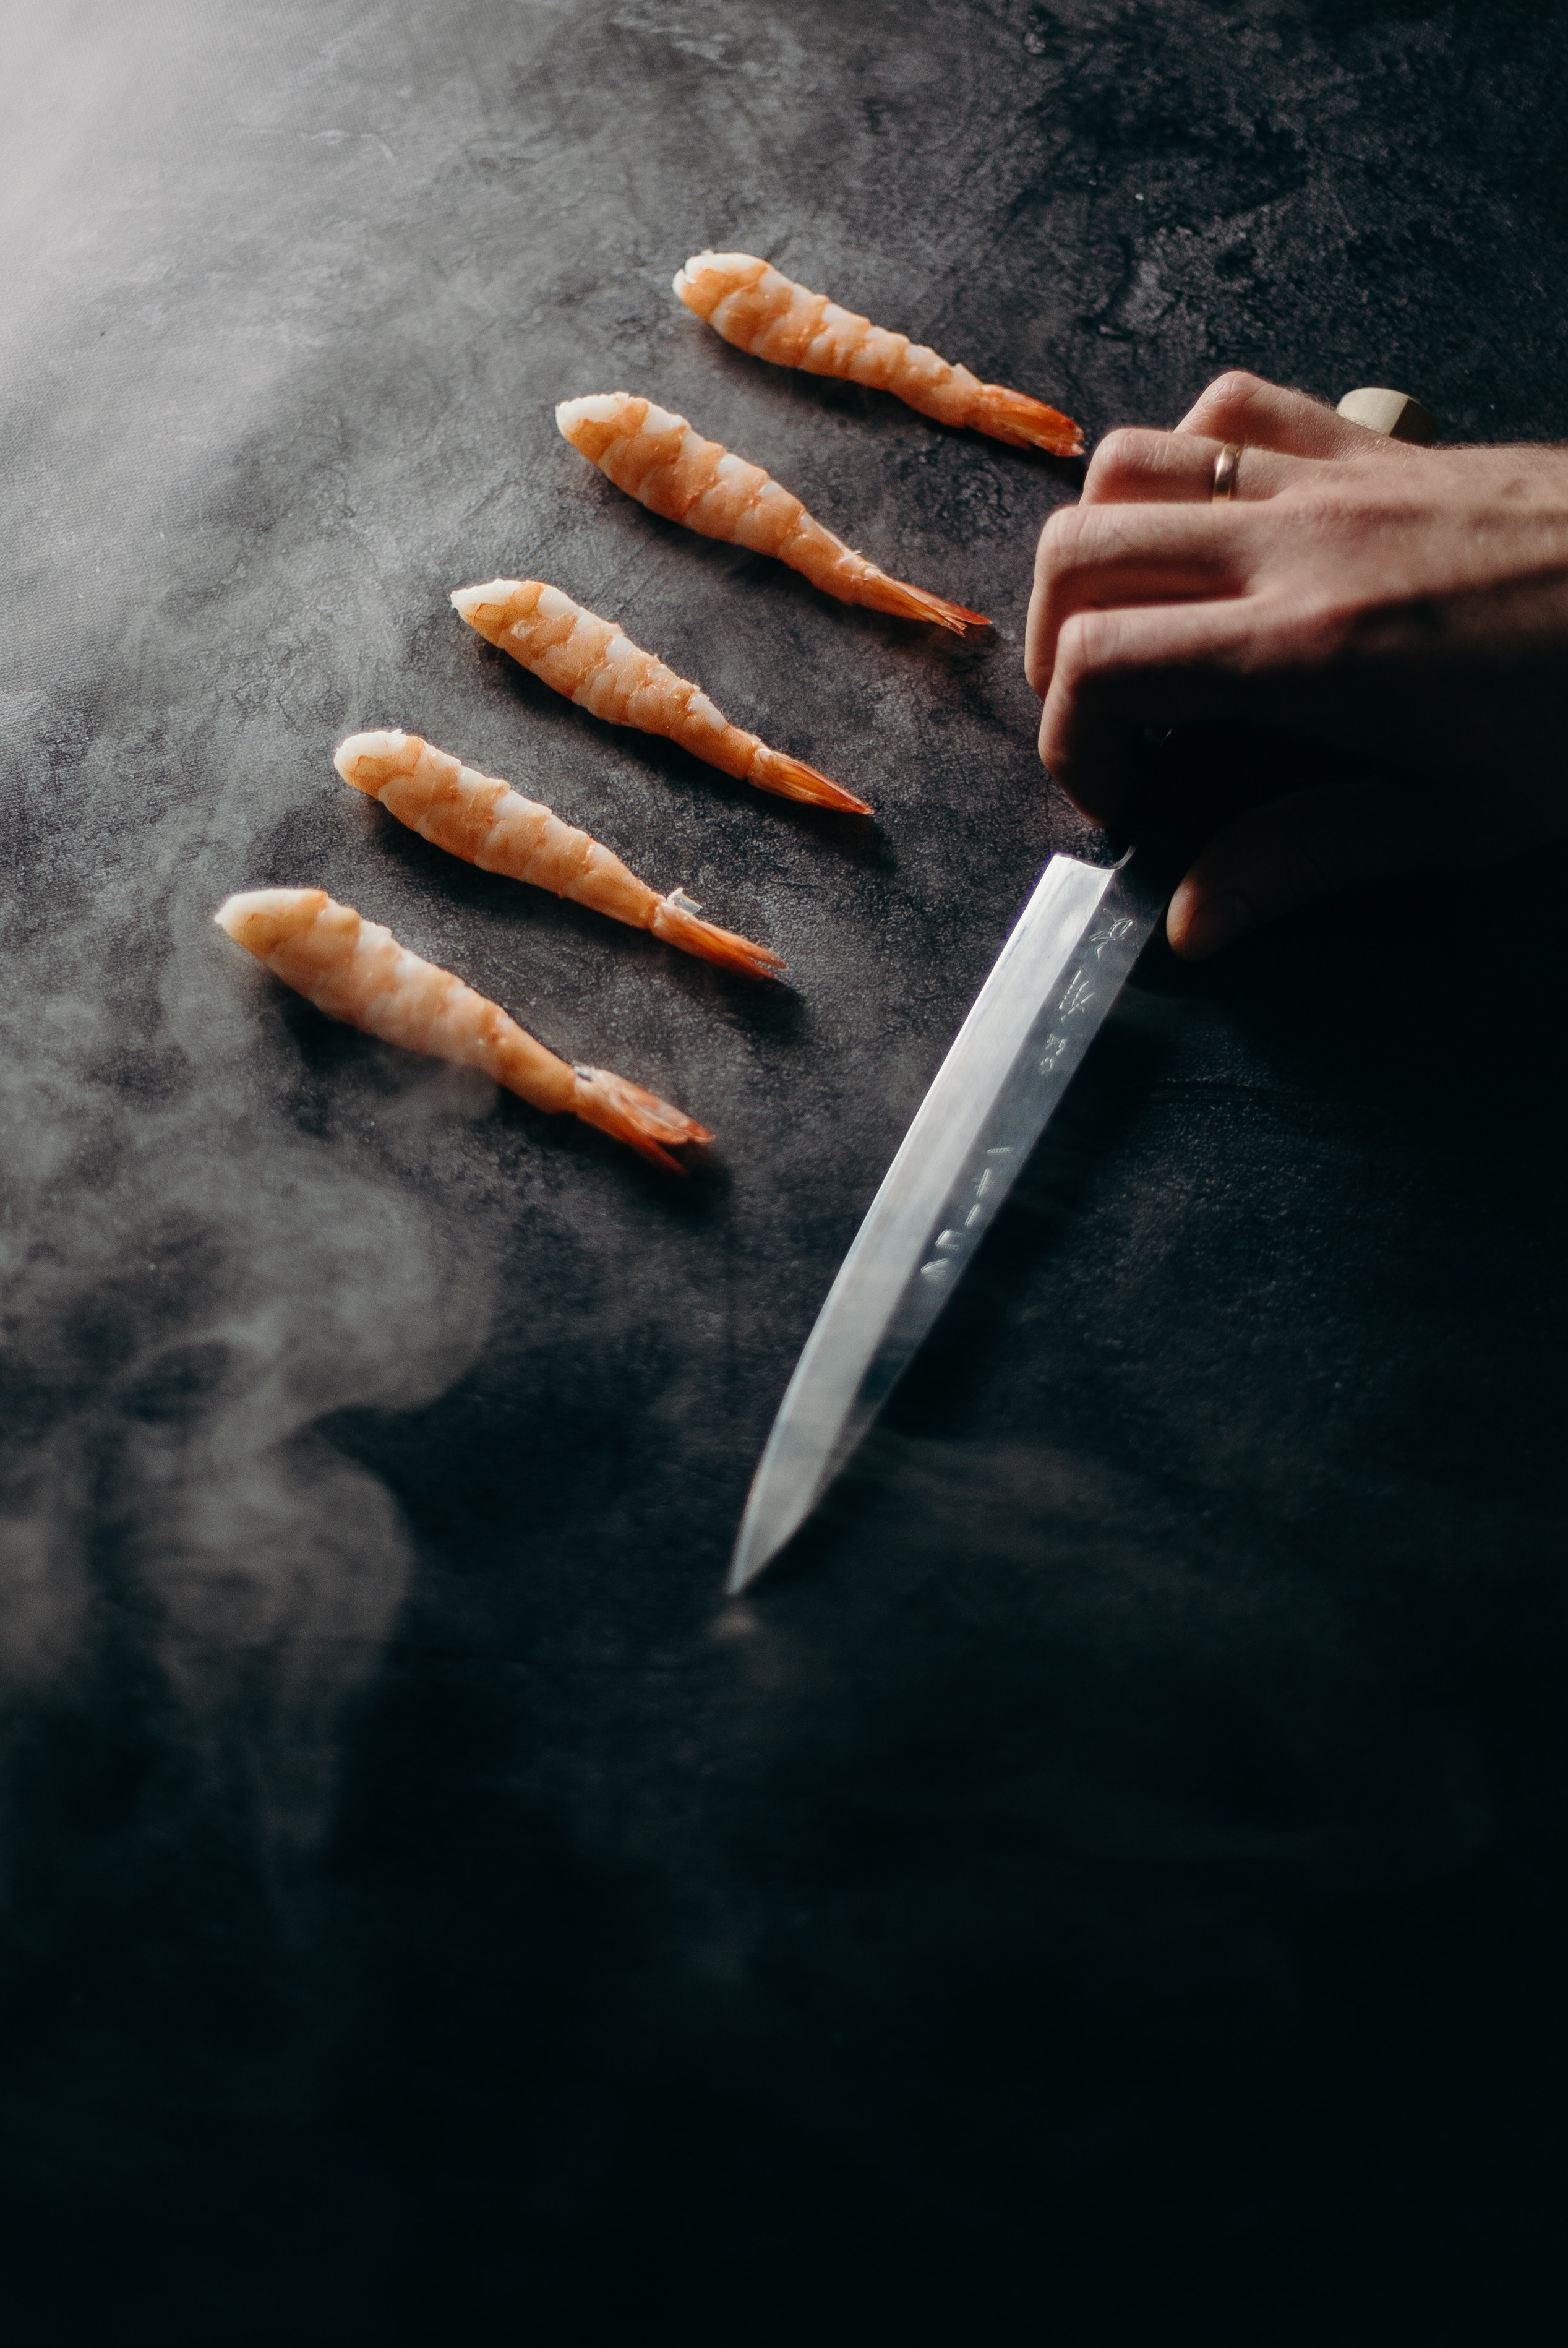knife: (721, 353, 1407, 1599)
